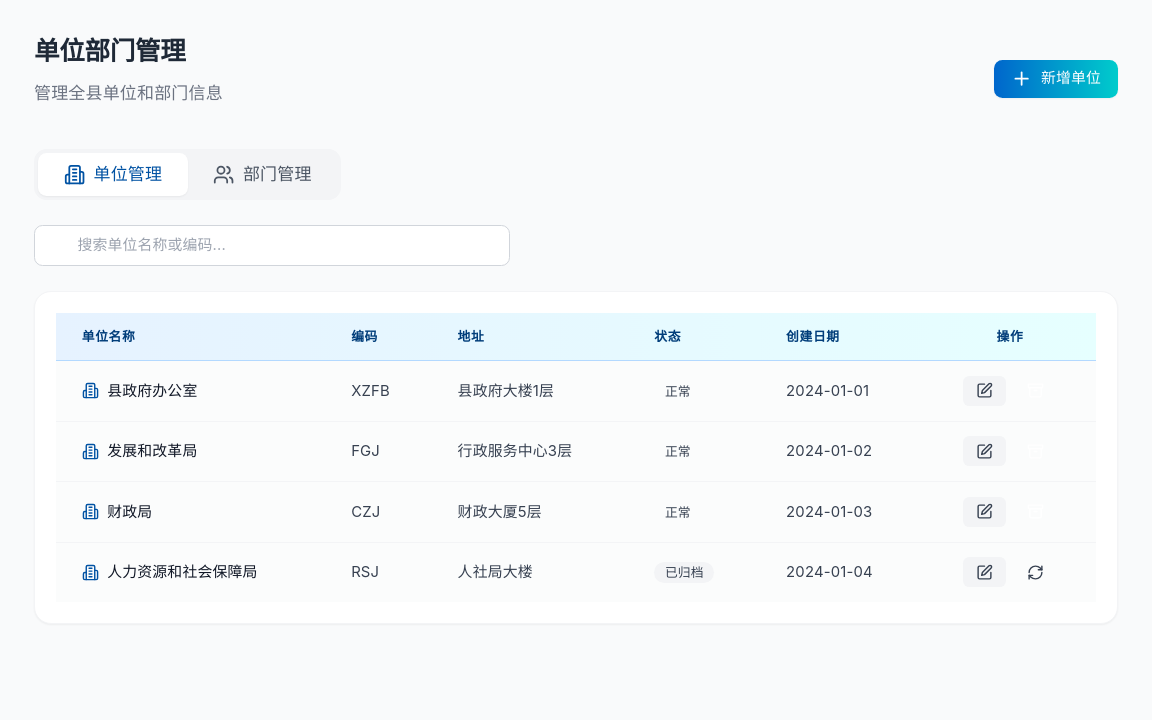
OrganizationManagement Page › displays department hierarchy with expand/collapse functionality
Click the button "部门管理" at {"x": 262, "y": 174}, box x1=188 y1=153 x2=337 y2=196
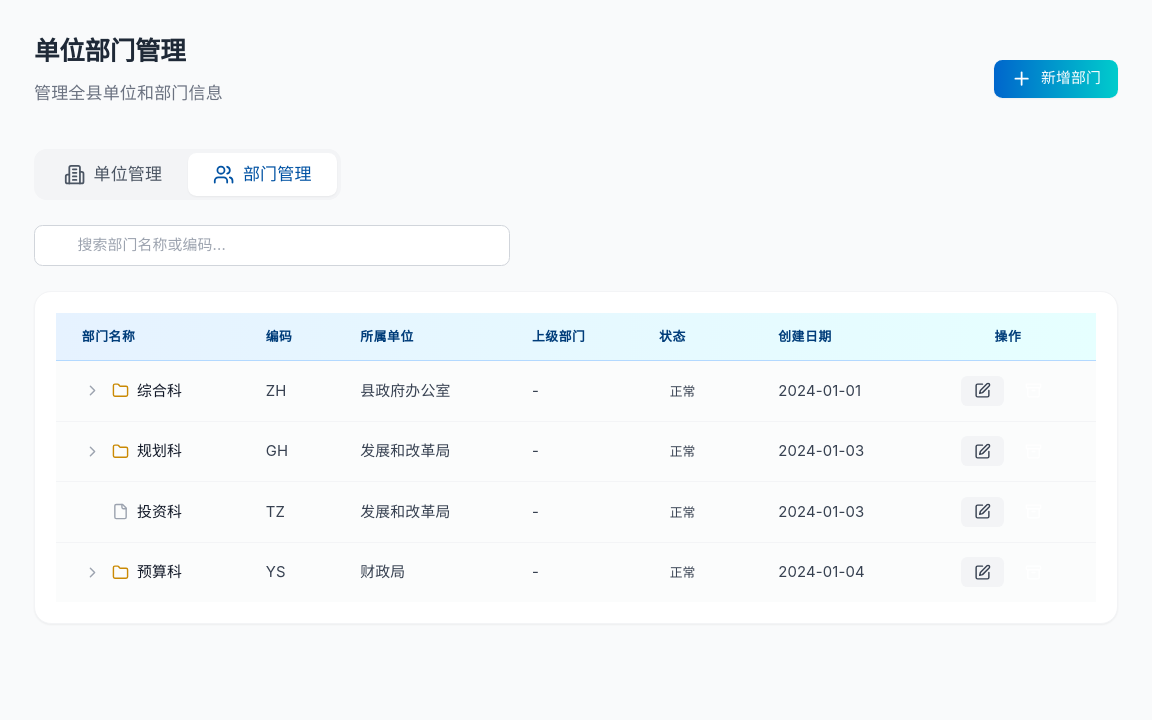
Check: the text "综合科" is shown, box x1=137 y1=379 x2=182 y2=403
Check: the text "规划科" is shown, box x1=137 y1=439 x2=182 y2=463
Check: the text "投资科" is shown, box x1=137 y1=500 x2=182 y2=524
